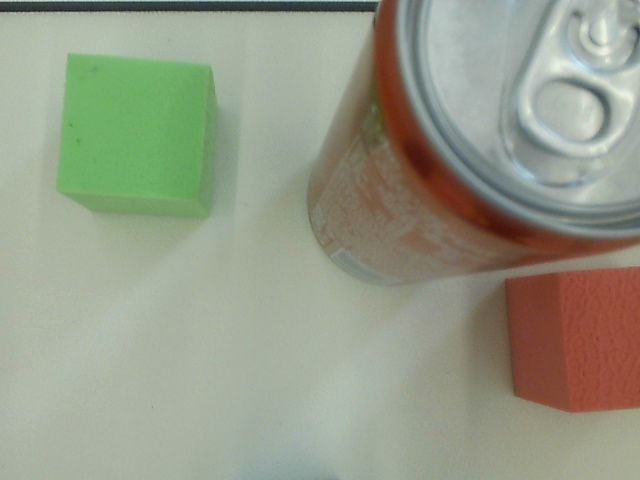cola: (307, 1, 640, 290)
greencube: (57, 48, 220, 224)
redcube: (503, 266, 640, 415)
